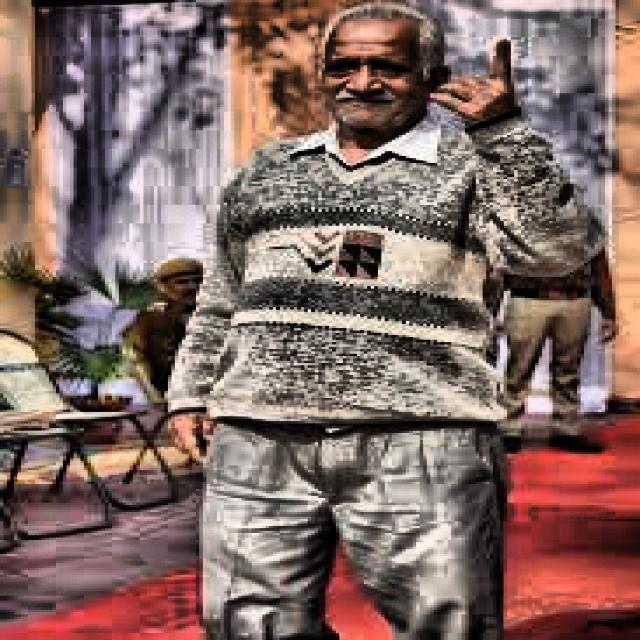Human: (185, 2, 577, 640)
